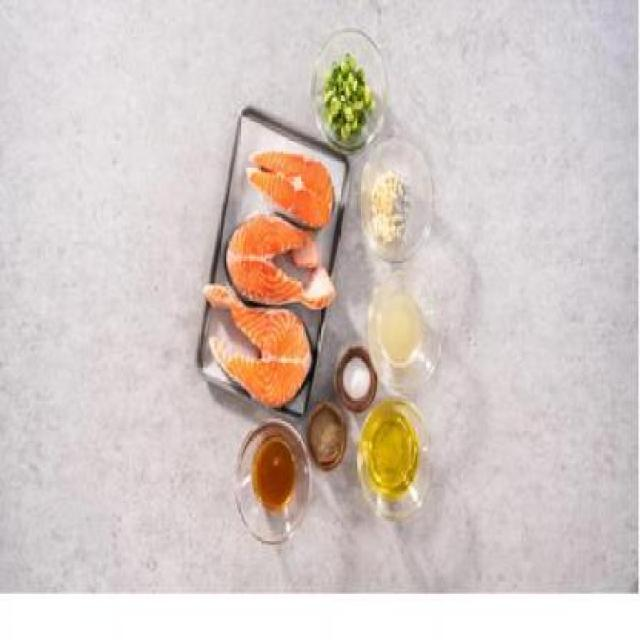salmon: (197, 268, 316, 417), (215, 203, 338, 324), (236, 131, 336, 235)
